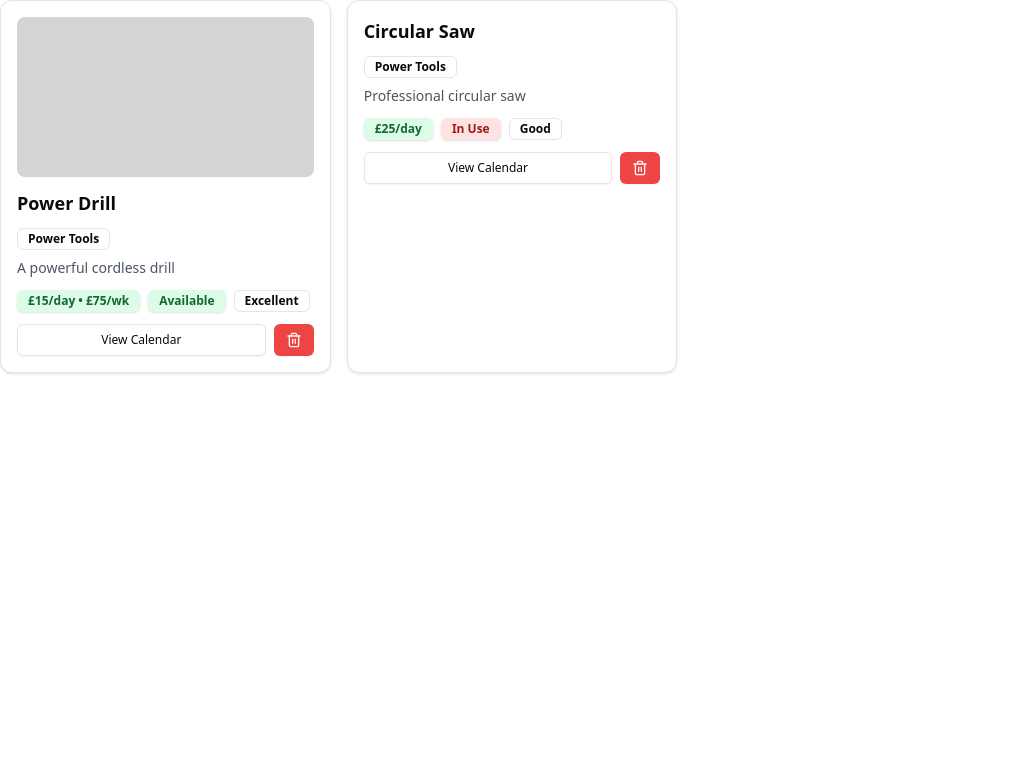
MyTools Component › Delete functionality › closes dialog when cancel clicked
The image size is (1024, 768).
Click the button without text below "£15/day • £75/wk": (294, 340) [274,324,314,356]
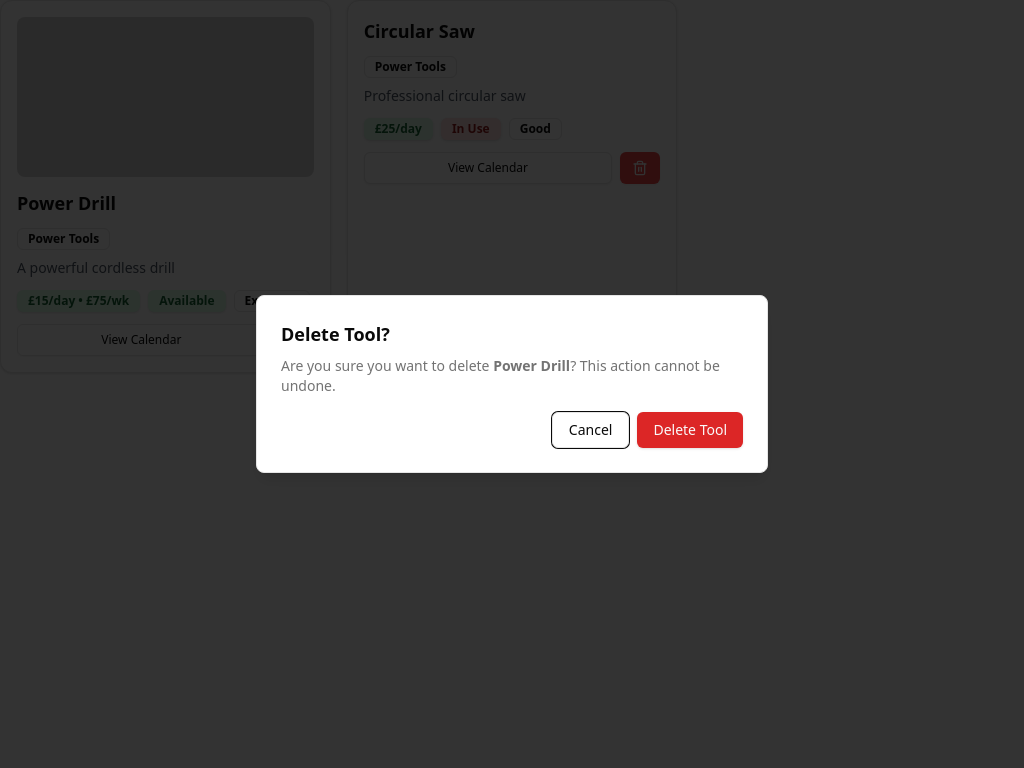
Check: the dialog is shown, box [256,295,768,473]
Click the button "Cancel": (591, 430) [552,412,629,448]
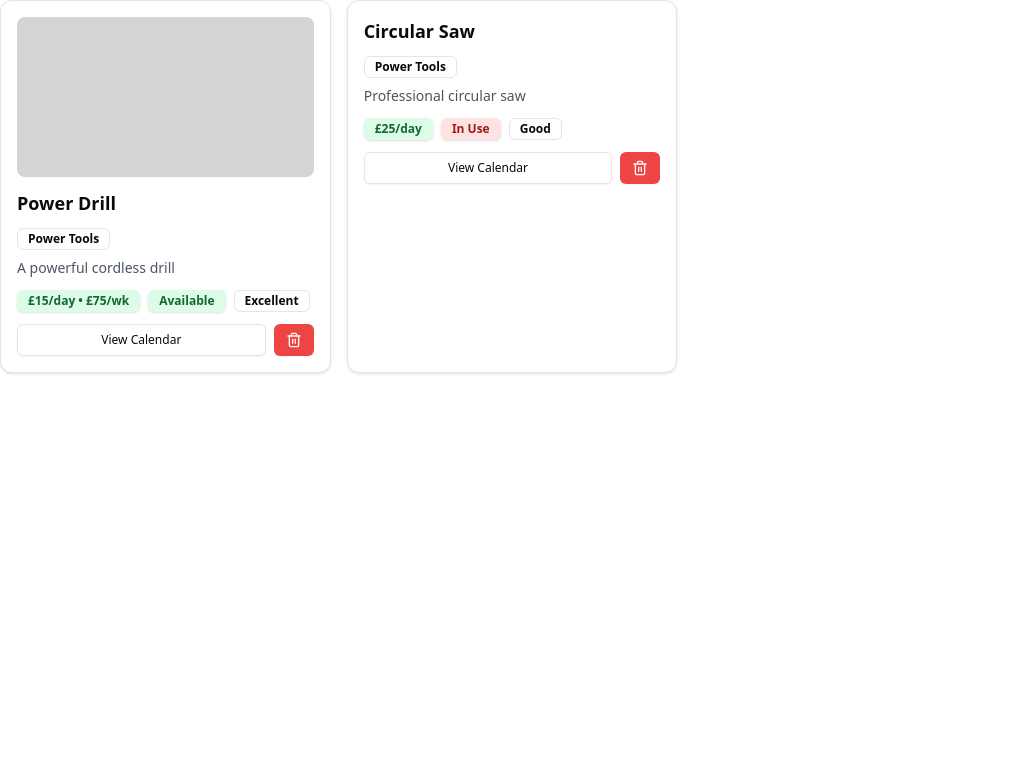
Check: the dialog is gone
